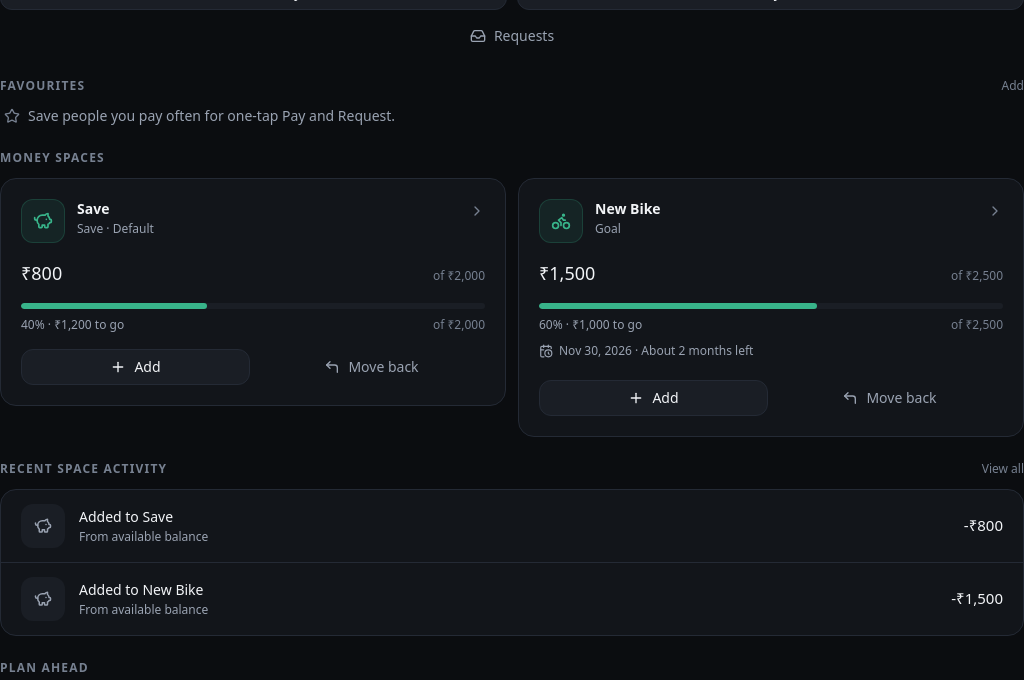
Test: Money page › add money: double-clicking Confirm moves money once and announces it
(page scrolled)
Click the button with aria-label "Add to Save": (136, 366) [21, 348, 250, 384]
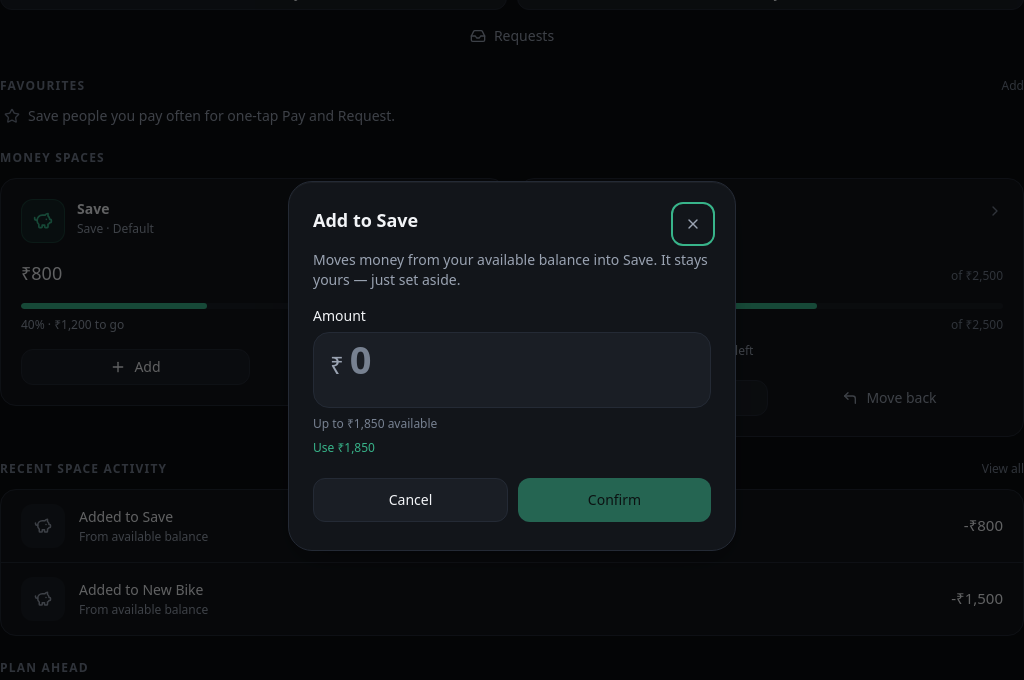
In the field labelled "Amount": (522, 359) [350, 333, 694, 385], type "250"
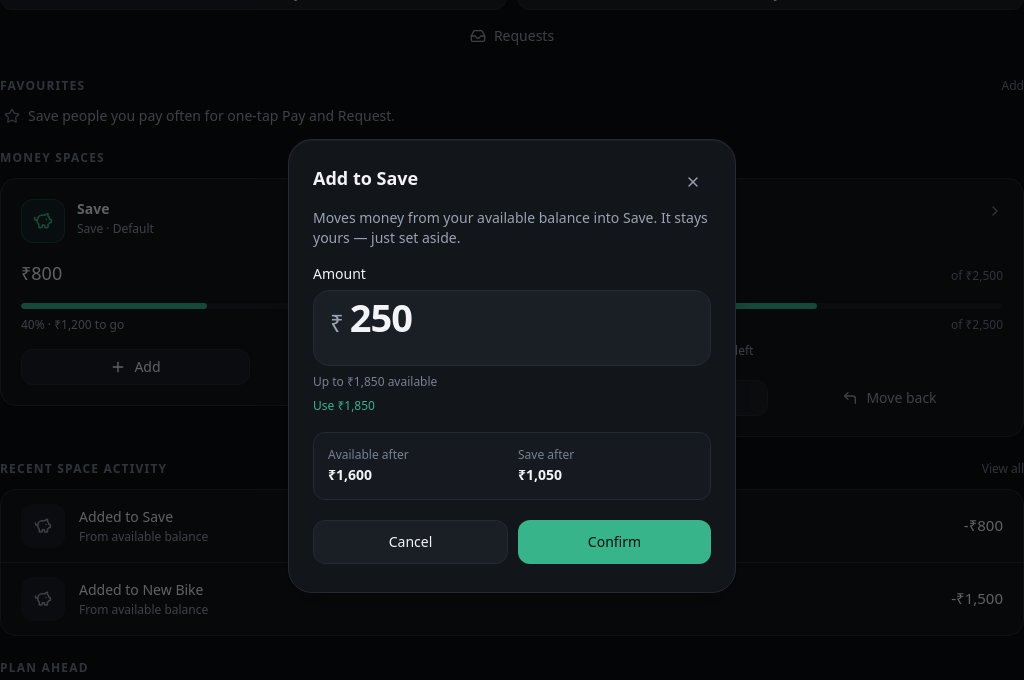
Check: the text "₹1,600" is shown, box [328, 465, 372, 484]
Double-click the button "Confirm": (614, 542) [518, 520, 711, 564]
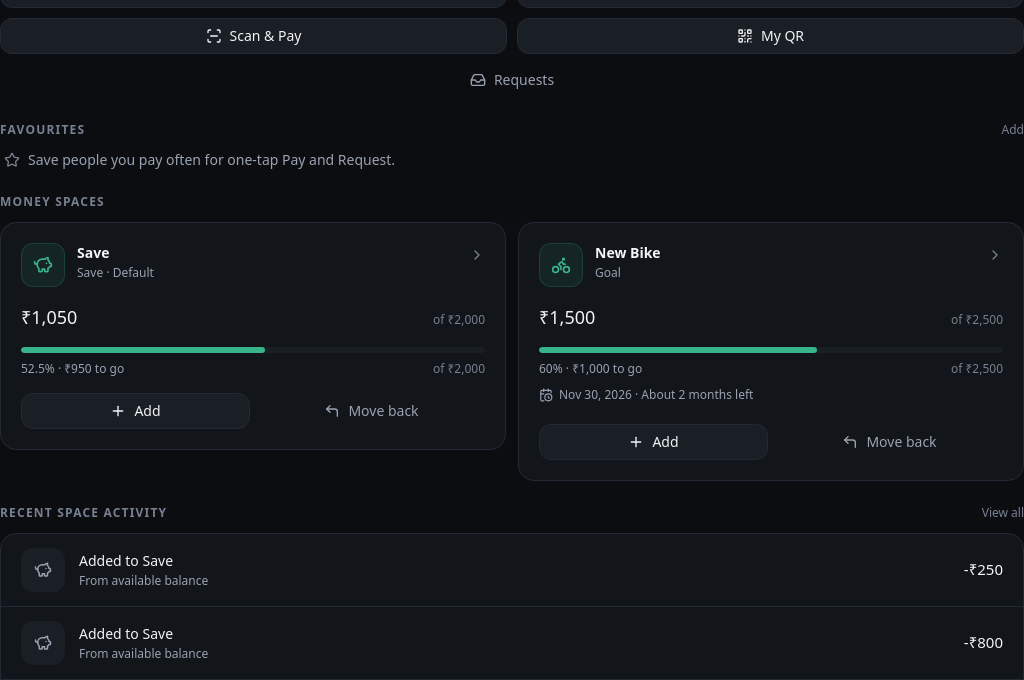
Check: the dialog is gone
